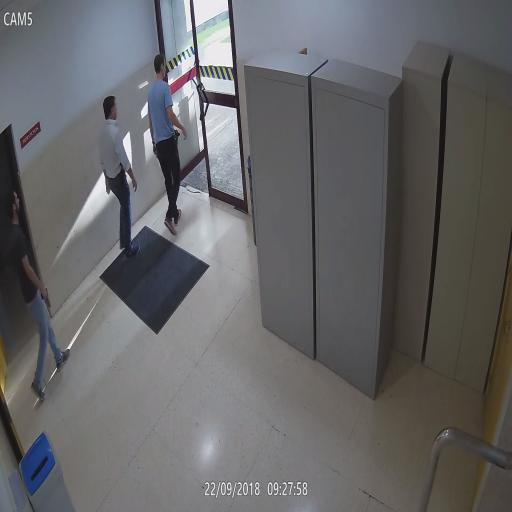Handgun: (39, 285, 52, 309), (172, 127, 180, 152), (120, 159, 126, 178)
